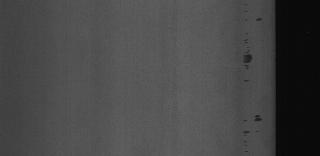oil spot: (241, 36, 253, 84), (240, 120, 252, 152), (257, 11, 267, 28), (254, 112, 262, 132)
